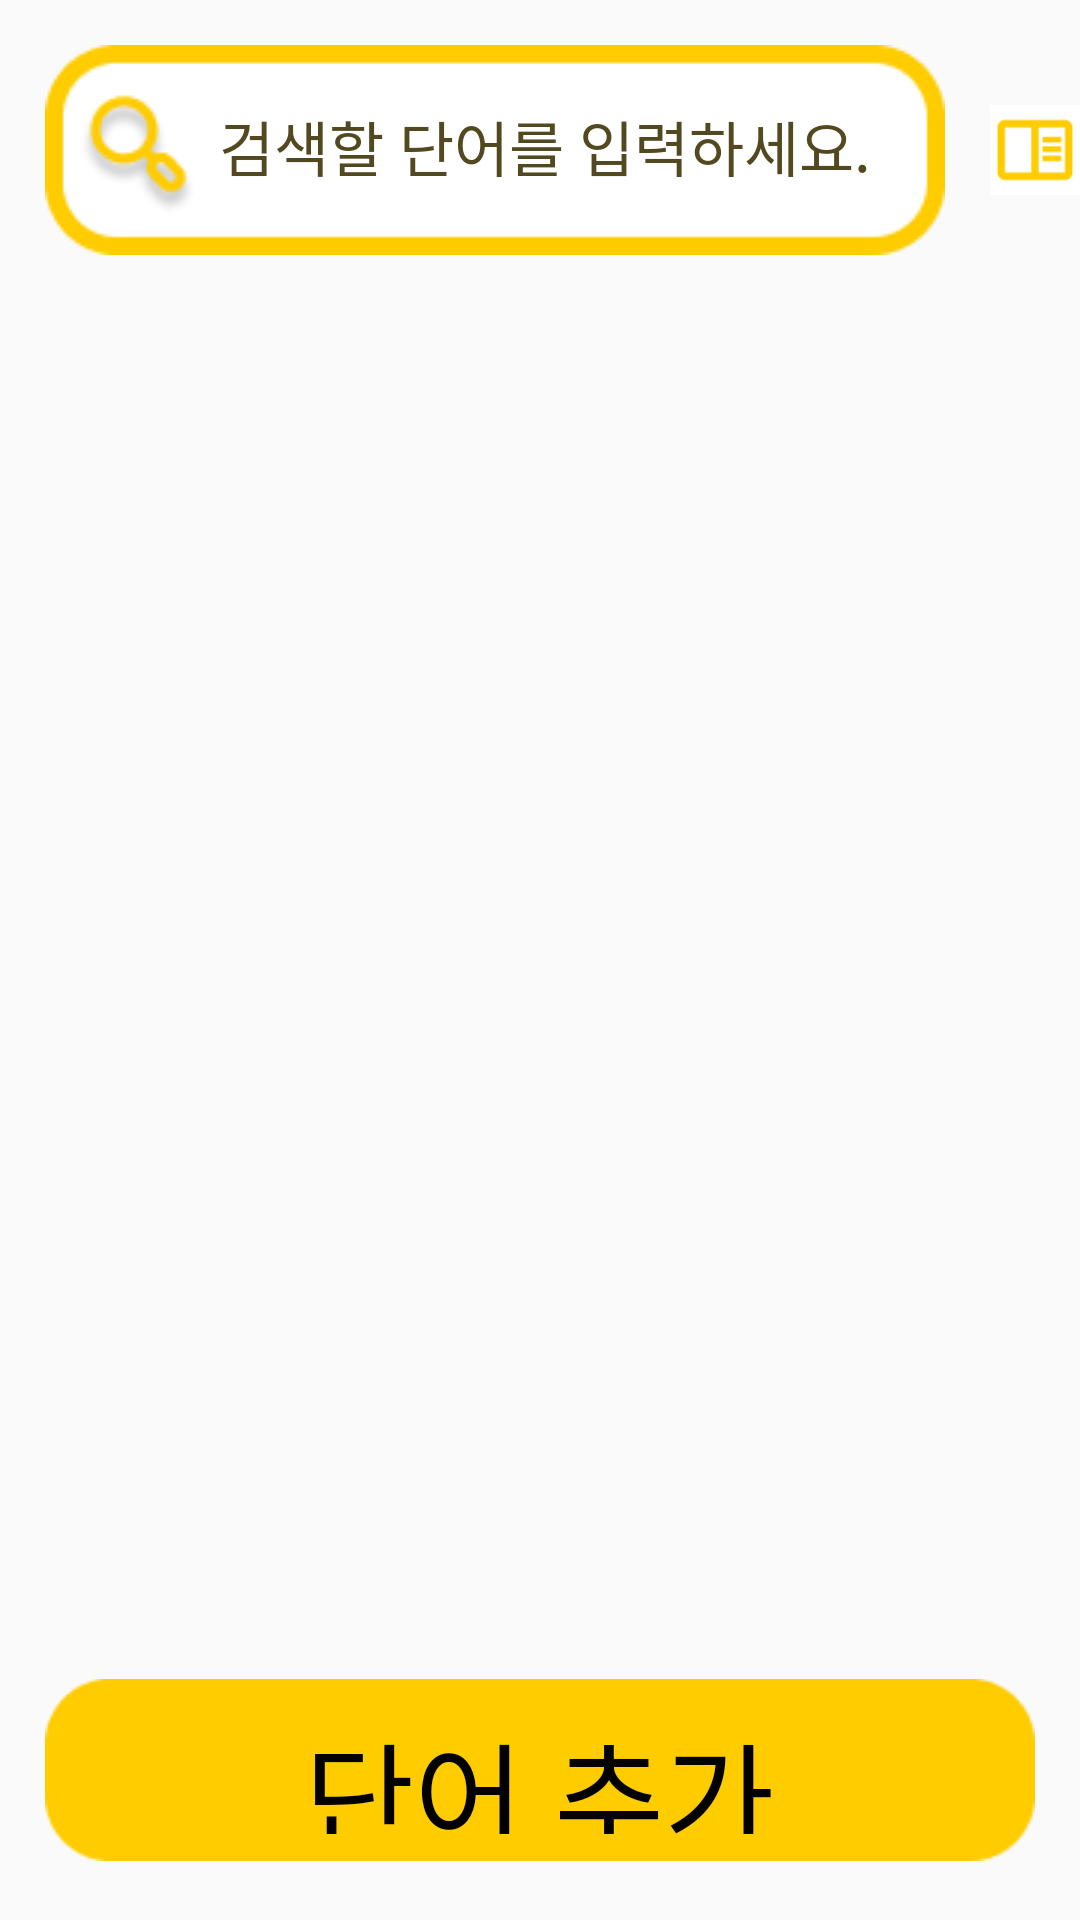

Where icons sit on this 1080w x 1920h app screen, as (x1, y1, x2, y2):
menu: (997, 119, 1073, 181)
